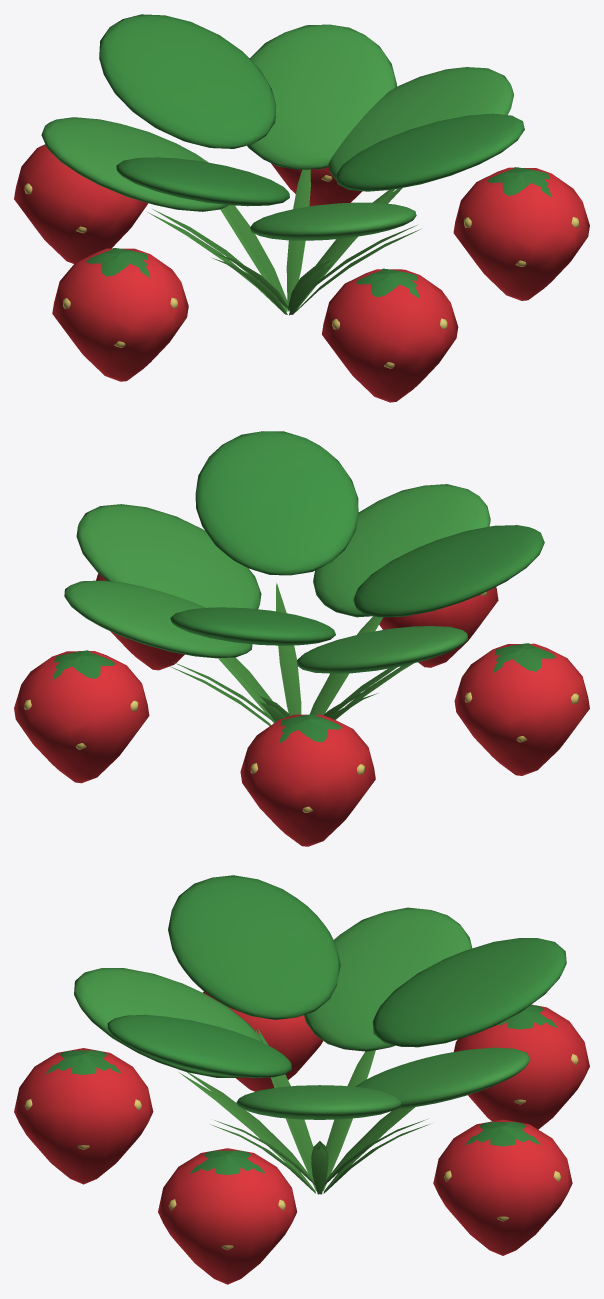
Rendered from strawberry-3.glb.
3 renders of one model, top to bottom at view 1: azimuth 30°, elevation 25°; view 2: azimuth 150°, elevation 25°; view 3: azimuth 270°, elevation 25°, orthographic. The views are drawn at different scales.
Parts seen in each view (by area): view 1: strawberry-3; view 2: strawberry-3; view 3: strawberry-3.
Boxes of the visible parts, x1,y1,x2,y2 form: strawberry-3: (14,14,589,402); strawberry-3: (14,431,589,846); strawberry-3: (14,875,589,1284).
Bounding box in the file's own units: 0.8433 × 0.3504 × 0.8266.
